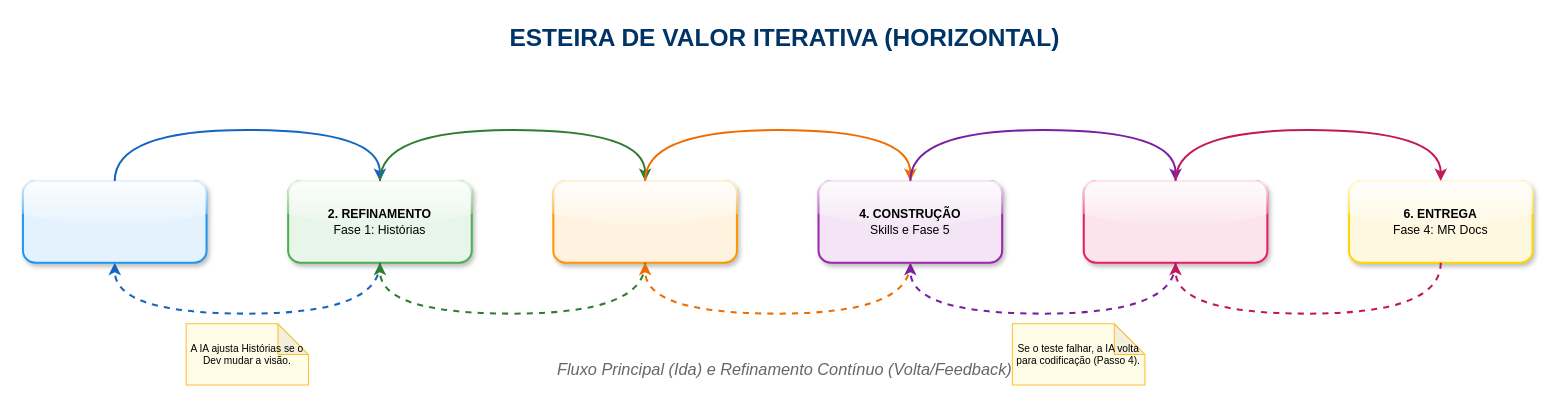
Some shapes in this 1557 by 403 pixel diagram are drawn without their labels. Here are the shapes that lost their labels. From the top down, the centre of each, then its label:
At [115,222]: "1. ENTRADA Requisitos GitHub".
At [646,222]: "3. ARQUITETURA Padrões Java/COBOL".
At [1176,222]: "5. VALIDAÇÃO Fase 3: Testes".
